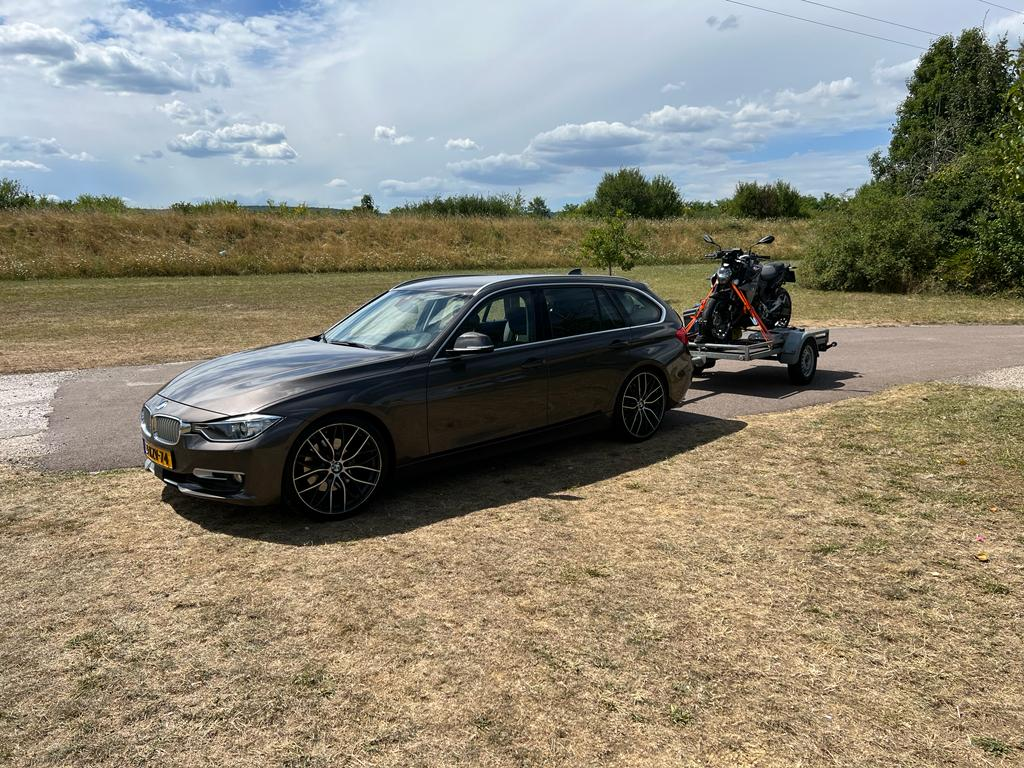motorcycle: (708, 223, 796, 340)
